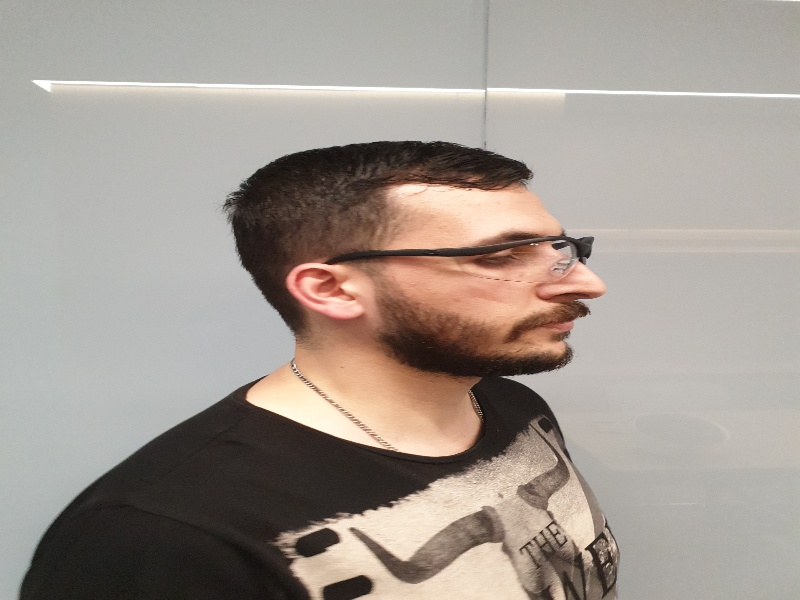Gozluk: (336, 236, 601, 278)
